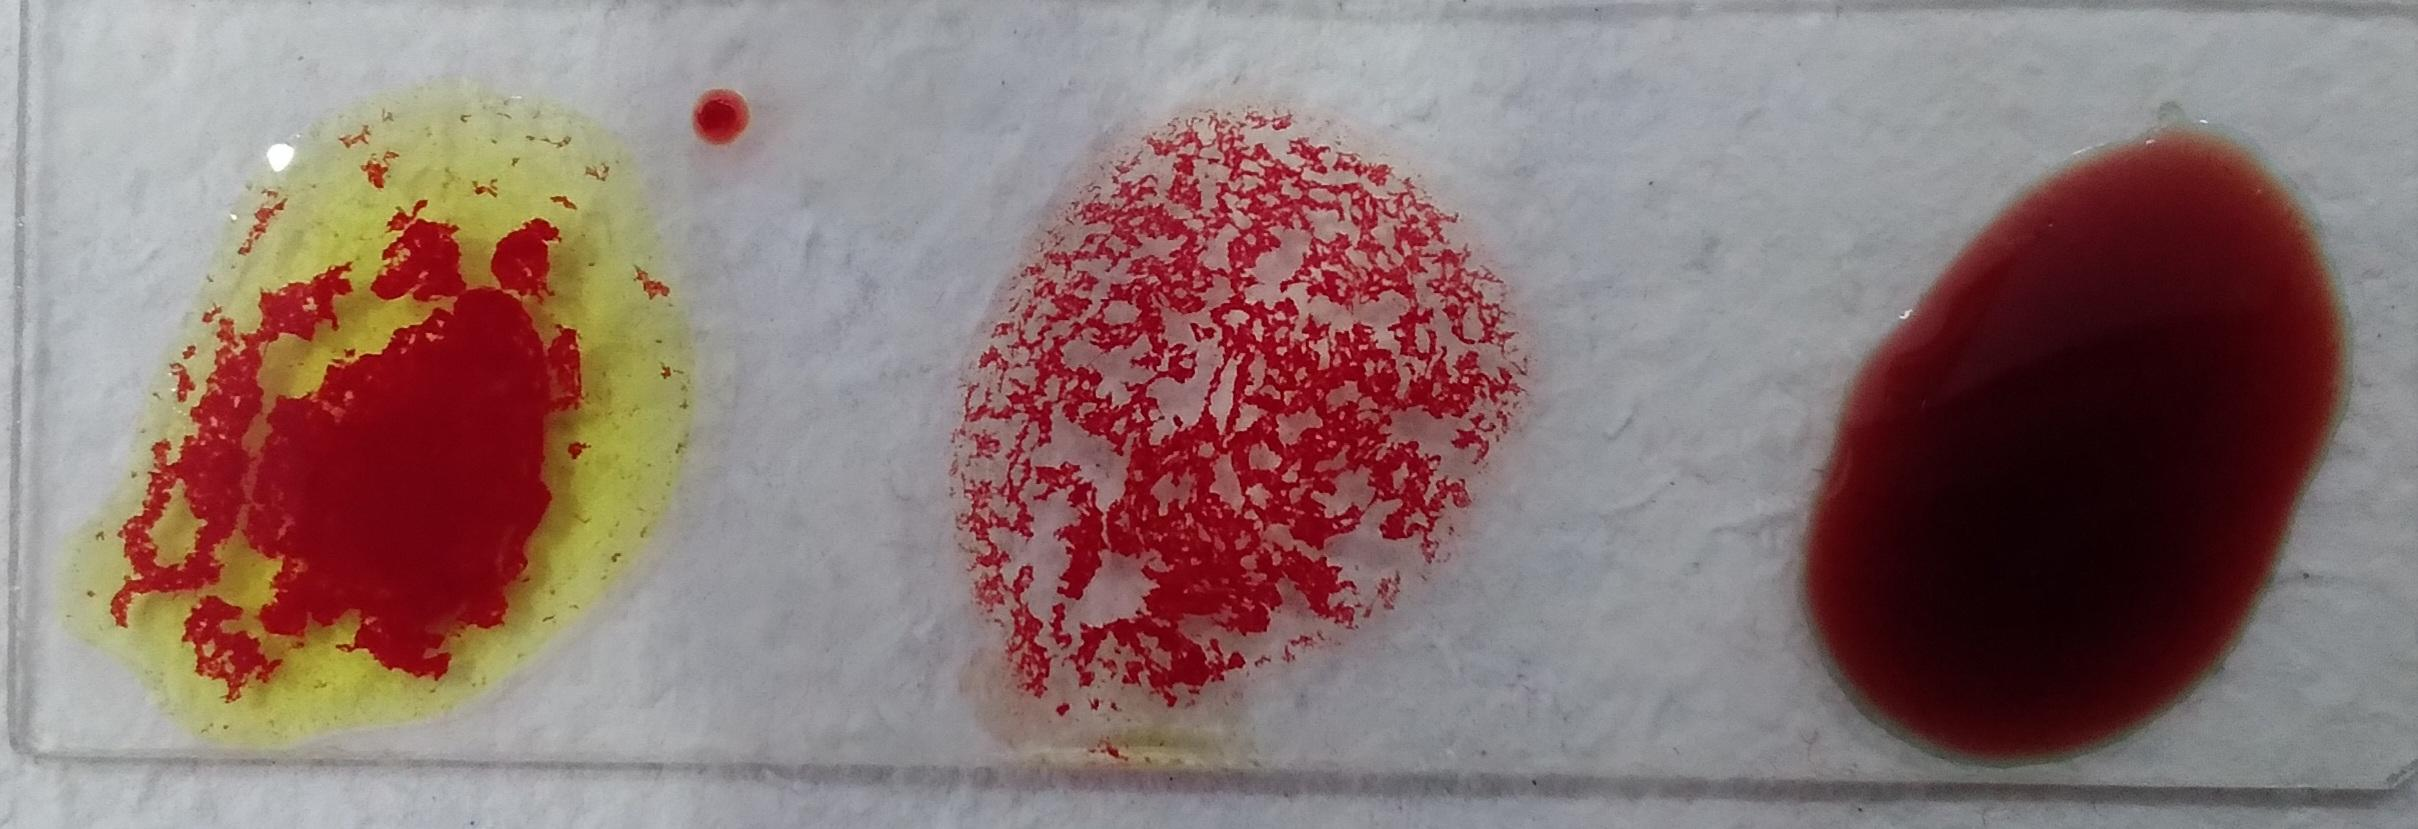B: (1735, 88, 2302, 755)
D: (901, 92, 1457, 723)
